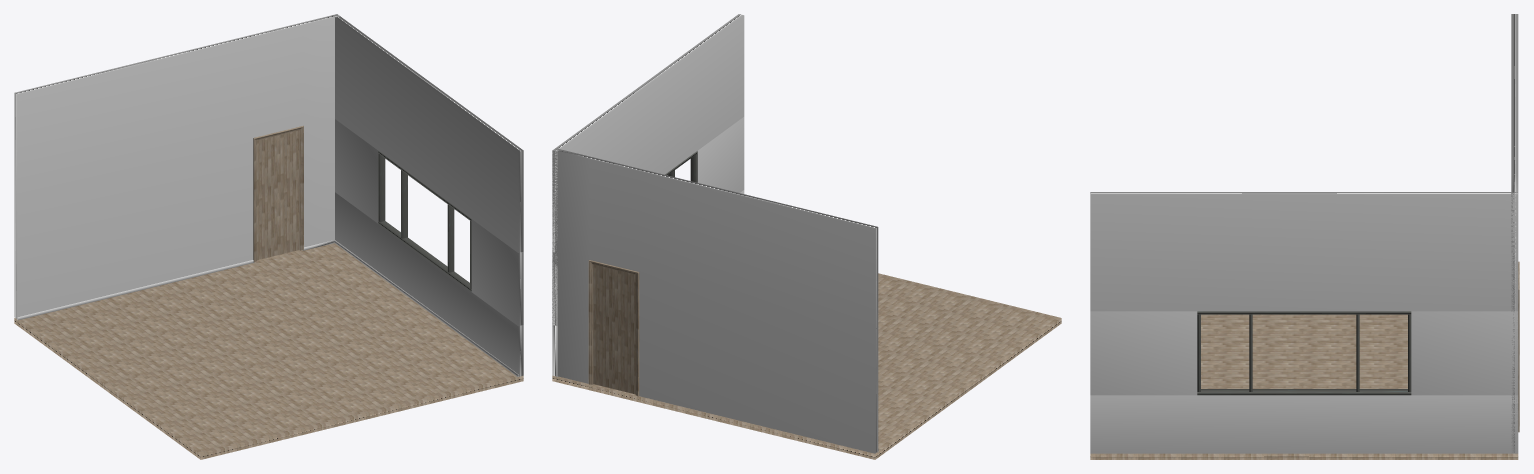
Rendered from SampleRoom.glb.
The picture shows the model from 3 angles, left to right: view 1: azimuth 30°, elevation 25°; view 2: azimuth 150°, elevation 25°; view 3: azimuth 270°, elevation 25°; orthographic projection. The views are drawn at different scales.
Visible parts, largest first — view 1: SampleRoom_Room; view 2: SampleRoom_Room; view 3: SampleRoom_Room.
Boxes of the visible parts, left/top/right/bottom form: SampleRoom_Room: left=14, top=14, right=523, bottom=459; SampleRoom_Room: left=552, top=14, right=1061, bottom=459; SampleRoom_Room: left=1090, top=14, right=1519, bottom=459.
Size of what is drawn, in the model's own units: 6 by 4.1 by 6.02.
Materials: 3 (2 with a texture image).
